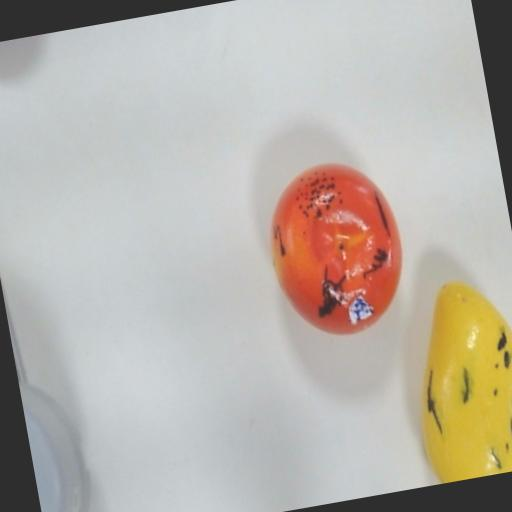Defective: (248, 147, 414, 346), (393, 264, 512, 485)
